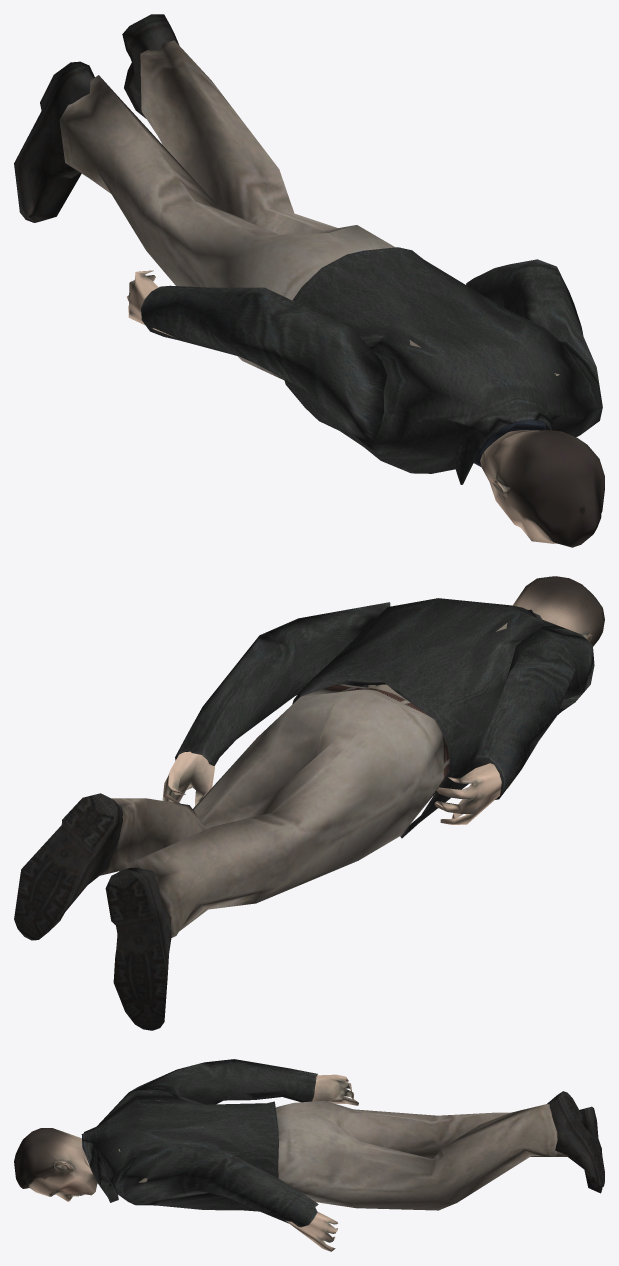
File: dest_nt_nuked_male_01_d0_LOD2.obj
3 views of the same model, one above another, from view 1: azimuth 30°, elevation 25°; view 2: azimuth 150°, elevation 25°; view 3: azimuth 270°, elevation 25° (orthographic). The views are drawn at different scales.
Visible parts, largest first — view 1: mtl_nt_2020_manne_male01_jacket1, mtl_nt_2020_manne_male01_pants1, mtl_nt_2020_manne_male01_head1; view 2: mtl_nt_2020_manne_male01_pants1, mtl_nt_2020_manne_male01_jacket1, mtl_nt_2020_manne_male01_head1; view 3: mtl_nt_2020_manne_male01_jacket1, mtl_nt_2020_manne_male01_pants1, mtl_nt_2020_manne_male01_head1.
Boxes of the visible parts, x1,y1,x2,y2 form: mtl_nt_2020_manne_male01_jacket1: [141, 247, 602, 484]; mtl_nt_2020_manne_male01_pants1: [14, 14, 395, 380]; mtl_nt_2020_manne_male01_head1: [127, 270, 604, 547]; mtl_nt_2020_manne_male01_pants1: [14, 684, 449, 1030]; mtl_nt_2020_manne_male01_jacket1: [175, 598, 594, 838]; mtl_nt_2020_manne_male01_head1: [162, 576, 604, 824]; mtl_nt_2020_manne_male01_jacket1: [81, 1059, 318, 1227]; mtl_nt_2020_manne_male01_pants1: [276, 1091, 604, 1210]; mtl_nt_2020_manne_male01_head1: [14, 1074, 358, 1251].
Bounding box in the file's own units: 75.46 × 42.83 × 184.
